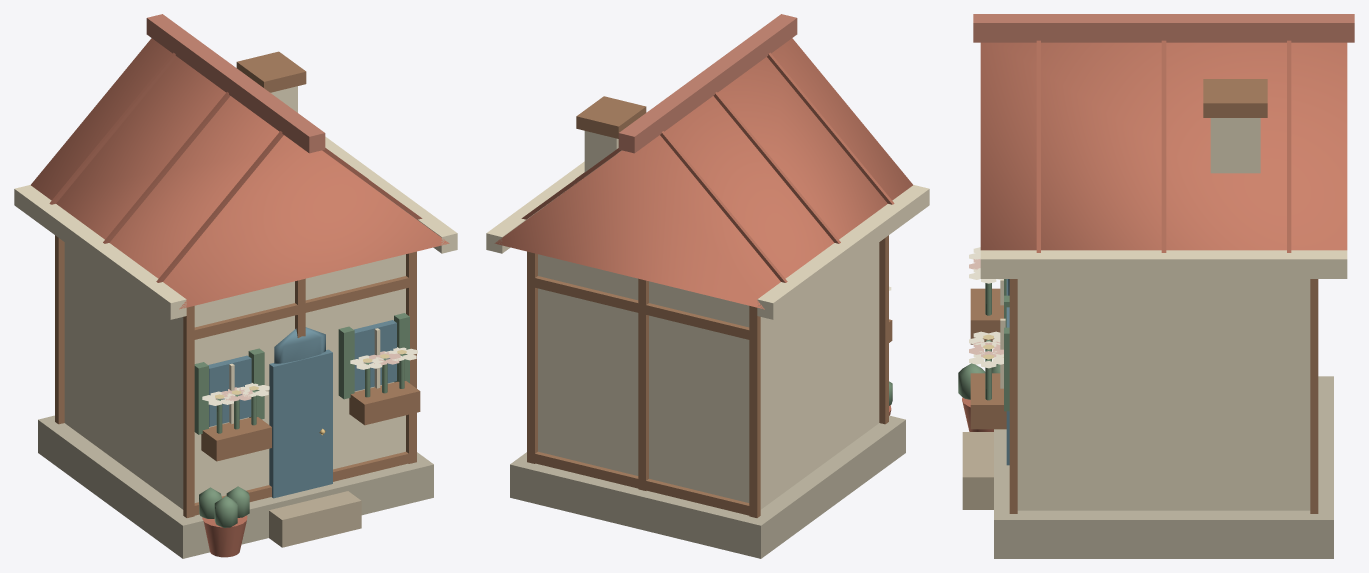
File: house_garden.glb
3 views of the same model, side by side, from view 1: azimuth 30°, elevation 25°; view 2: azimuth 150°, elevation 25°; view 3: azimuth 270°, elevation 25° (orthographic). The views are drawn at different scales.
Visible parts, largest first — view 1: _MeshInstance3D_83, _MeshInstance3D_82, _MeshInstance3D_81, _MeshInstance3D_103, _MeshInstance3D_84, _MeshInstance3D_85, _MeshInstance3D_118, _MeshInstance3D_102, _MeshInstance3D_98, _MeshInstance3D_126, _MeshInstance3D_119, _MeshInstance3D_89 (+17 smaller); view 2: _MeshInstance3D_82, _MeshInstance3D_83, _MeshInstance3D_81, _MeshInstance3D_84, _MeshInstance3D_85, _MeshInstance3D_97, _MeshInstance3D_96, _MeshInstance3D_93, _MeshInstance3D_94, _MeshInstance3D_95, _MeshInstance3D_117, _MeshInstance3D_98 (+5 smaller); view 3: _MeshInstance3D_83, _MeshInstance3D_82, _MeshInstance3D_81, _MeshInstance3D_84, _MeshInstance3D_89, _MeshInstance3D_116, _MeshInstance3D_117, _MeshInstance3D_118, _MeshInstance3D_95, _MeshInstance3D_100, _MeshInstance3D_126, _MeshInstance3D_119 (+5 smaller).
Part boxes in pixels (x1,y1,x2,y2): _MeshInstance3D_83: (31,38,449,309); _MeshInstance3D_82: (64,242,405,509); _MeshInstance3D_81: (38,415,433,558); _MeshInstance3D_103: (269,349,332,498); _MeshInstance3D_84: (146,14,325,153); _MeshInstance3D_85: (14,185,186,319); _MeshInstance3D_118: (269,491,361,547); _MeshInstance3D_102: (189,276,415,340); _MeshInstance3D_98: (183,306,194,517); _MeshInstance3D_126: (349,381,420,425); _MeshInstance3D_119: (201,417,271,461); _MeshInstance3D_89: (325,136,457,253); _MeshInstance3D_82: (538,242,879,509); _MeshInstance3D_83: (494,38,912,309); _MeshInstance3D_81: (510,415,905,558); _MeshInstance3D_84: (618,14,797,153); _MeshInstance3D_85: (757,185,929,319); _MeshInstance3D_97: (528,276,754,339); _MeshInstance3D_96: (528,451,753,516); _MeshInstance3D_93: (749,306,760,517); _MeshInstance3D_94: (638,278,648,490); _MeshInstance3D_95: (527,251,537,463); _MeshInstance3D_117: (576,96,646,138); _MeshInstance3D_98: (879,235,888,424); _MeshInstance3D_83: (980,42,1347,250); _MeshInstance3D_82: (1017,279,1310,510); _MeshInstance3D_81: (994,376,1333,558); _MeshInstance3D_84: (973,14,1354,42); _MeshInstance3D_89: (980,250,1347,278); _MeshInstance3D_116: (1210,118,1260,173); _MeshInstance3D_117: (1203,79,1267,117); _MeshInstance3D_118: (962,432,993,509); _MeshInstance3D_95: (1310,279,1318,513); _MeshInstance3D_100: (1009,279,1017,513); _MeshInstance3D_126: (970,373,1006,429); _MeshInstance3D_119: (970,288,1003,344).
Size of the model in its own units: 2.17 by 2.89 by 2.21.
